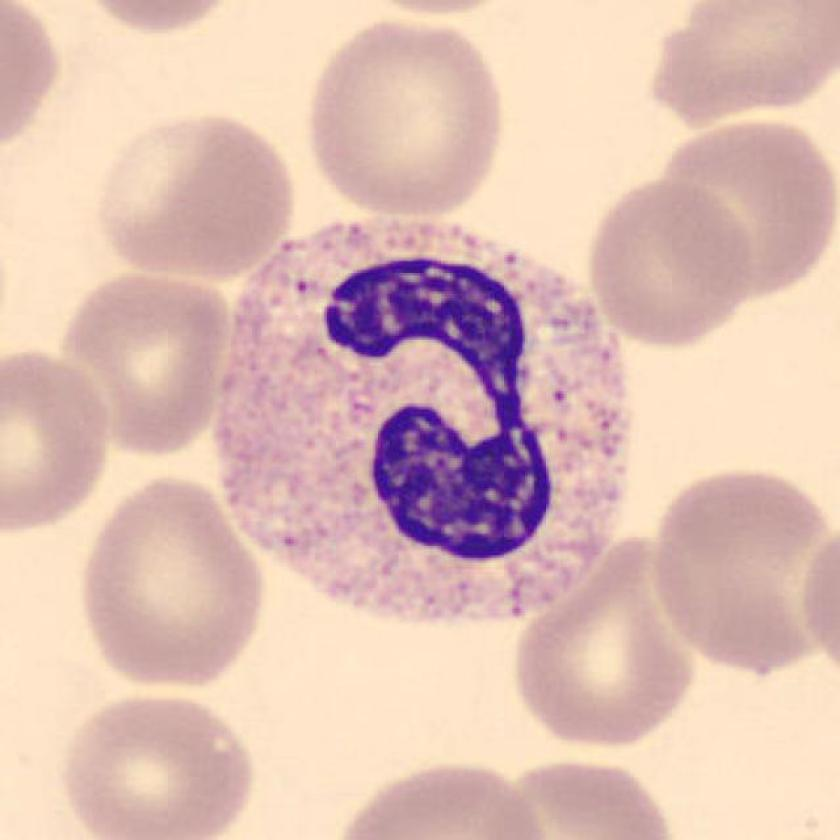neutrophil: (216, 223, 635, 626)
